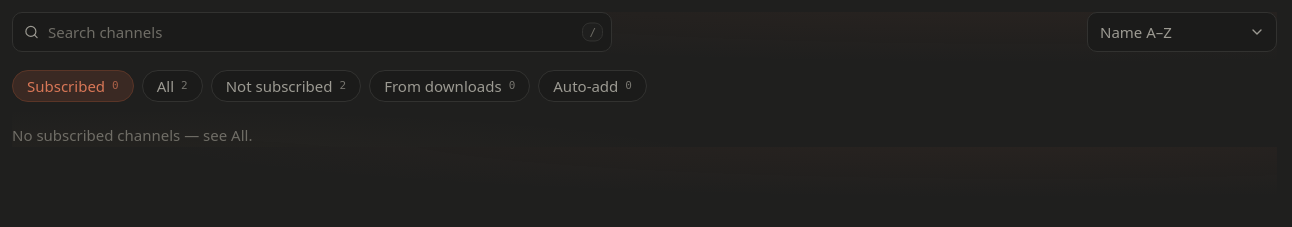
Test: Channels › falls back to the handle, then the id, when a channel has no name
This screenshot has width=1292, height=227.
Click the button "All 2": (172, 86) [142,70,203,102]
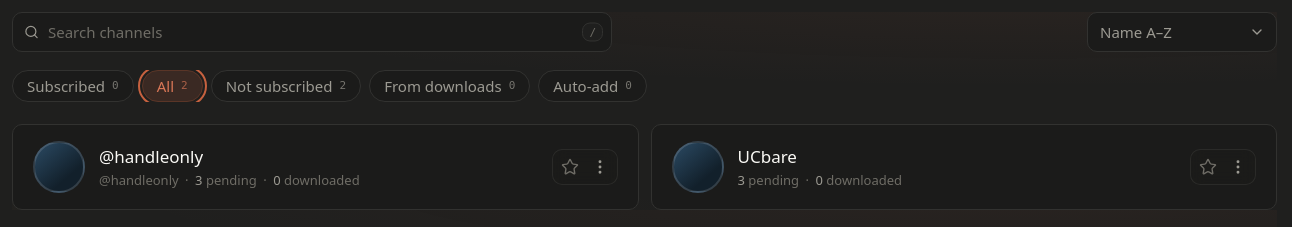
expect the heading "@handleonly" is shown: met, box [99,144,203,169]
expect the heading "UCbare" is shown: met, box [738,144,797,169]
expect the button named "Actions for UCbare" is shown: met, box [1223,152,1253,182]
